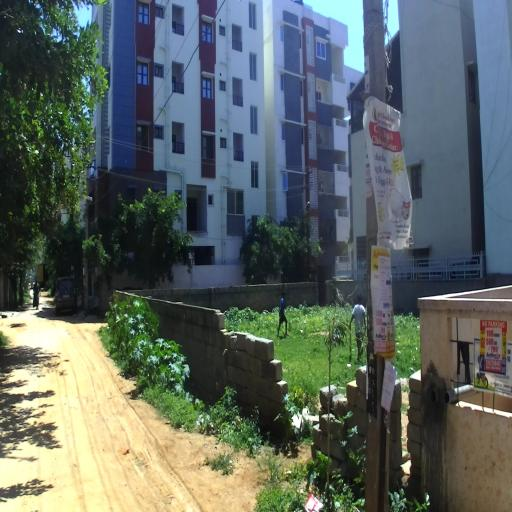street_light_0: (85, 196, 92, 217)
